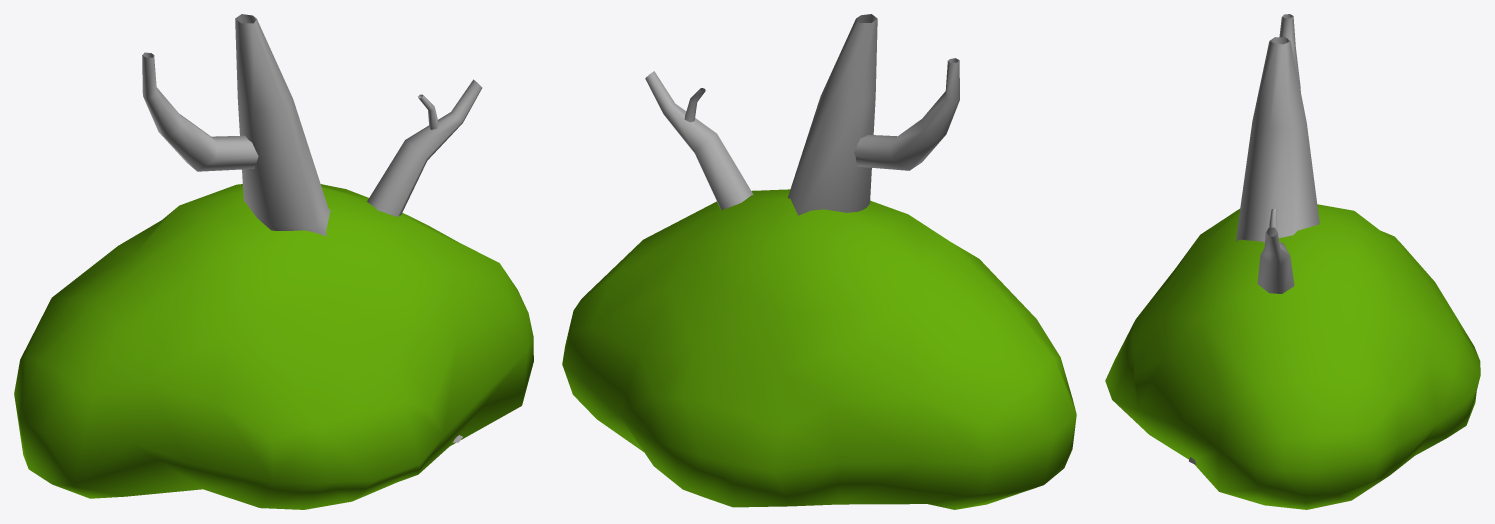
File: TreeV1_low.fbx
3 views of the same model, side by side, from view 1: azimuth 30°, elevation 25°; view 2: azimuth 150°, elevation 25°; view 3: azimuth 270°, elevation 25° (orthographic). The views are drawn at different scales.
Parts seen in each view (by area): view 1: TreeTop01_low, TreeTrunk01_low; view 2: TreeTop01_low, TreeTrunk01_low; view 3: TreeTop01_low, TreeTrunk01_low.
Boxes of the visible parts, box(x1,y1,x2,y2) form: TreeTop01_low: box(14, 184, 533, 509); TreeTrunk01_low: box(142, 14, 482, 442); TreeTop01_low: box(562, 189, 1076, 509); TreeTrunk01_low: box(645, 14, 959, 215); TreeTop01_low: box(1105, 204, 1480, 509); TreeTrunk01_low: box(1189, 14, 1319, 464).
Bounding box in the file's own units: 450 × 390 × 354.
